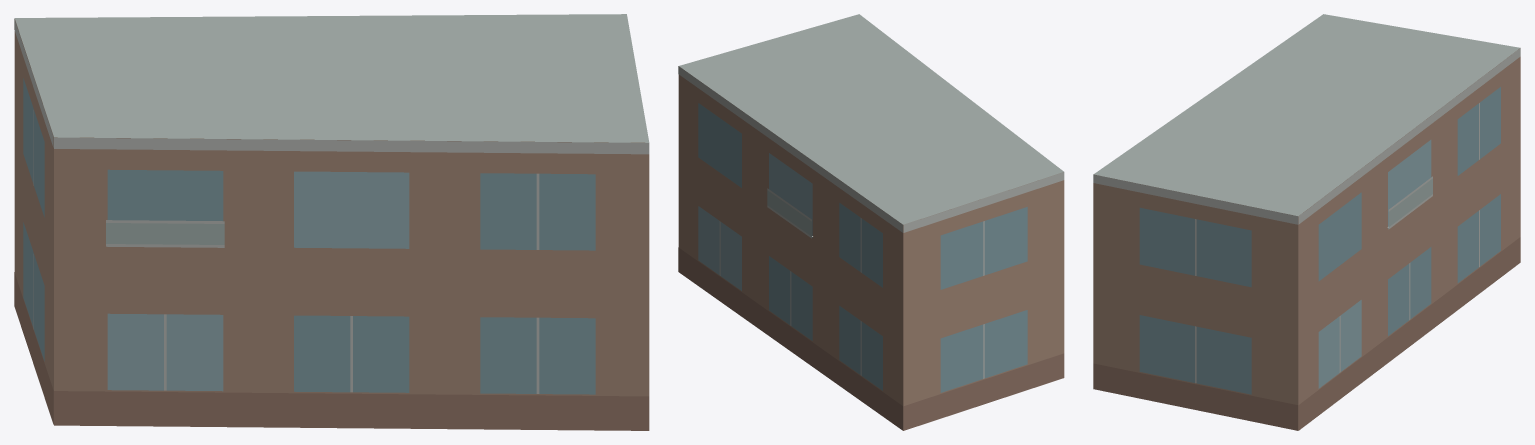
Rendered from survey-upis-32778748.glb.
3 views of the same model, side by side, from view 1: azimuth 30°, elevation 25°; view 2: azimuth 150°, elevation 25°; view 3: azimuth 270°, elevation 25° (orthographic). The views are drawn at different scales.
Parts seen in each view (by area): view 1: survey-upis-32778748.tmp; view 2: survey-upis-32778748.tmp; view 3: survey-upis-32778748.tmp.
Boxes of the visible parts, <box> form: survey-upis-32778748.tmp: <box>14,14,649,430</box>; survey-upis-32778748.tmp: <box>678,14,1064,430</box>; survey-upis-32778748.tmp: <box>1093,14,1520,430</box>.
Bounding box in the file's own units: 12.34 × 6.1 × 11.01.
